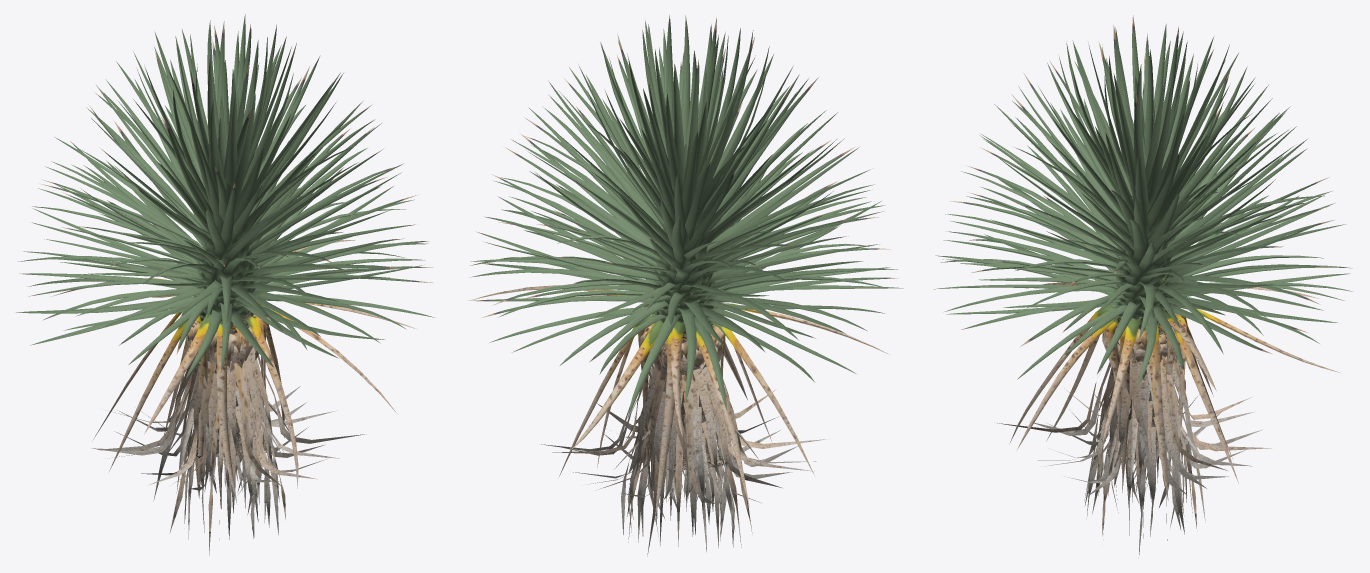
File: joshua0.glb
3 renders of one model, left to right at view 1: azimuth 30°, elevation 25°; view 2: azimuth 150°, elevation 25°; view 3: azimuth 270°, elevation 25°, orthographic. The views are drawn at different scales.
Visible parts, largest first — view 1: Yucca_brevifolia_HD_Yucca brev leaf 01_0, Yucca_brevifolia_HD_Yucca brev leaf 02b_0; view 2: Yucca_brevifolia_HD_Yucca brev leaf 01_0, Yucca_brevifolia_HD_Yucca brev leaf 02b_0; view 3: Yucca_brevifolia_HD_Yucca brev leaf 01_0, Yucca_brevifolia_HD_Yucca brev leaf 02b_0.
Part boxes in pixels (left/top/right/bottom): Yucca_brevifolia_HD_Yucca brev leaf 01_0: left=16, top=14, right=435, bottom=378; Yucca_brevifolia_HD_Yucca brev leaf 02b_0: left=52, top=240, right=417, bottom=555; Yucca_brevifolia_HD_Yucca brev leaf 01_0: left=468, top=15, right=903, bottom=418; Yucca_brevifolia_HD_Yucca brev leaf 02b_0: left=472, top=285, right=889, bottom=556; Yucca_brevifolia_HD_Yucca brev leaf 01_0: left=934, top=15, right=1353, bottom=387; Yucca_brevifolia_HD_Yucca brev leaf 02b_0: left=997, top=282, right=1340, bottom=554.
Bounding box in the file's own units: 0.7537 × 0.993 × 0.7609.
Materials: 4 (4 with a texture image).
